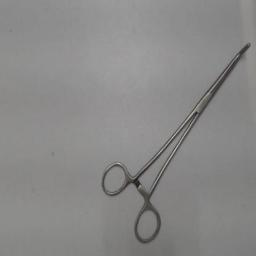Lahey Forceps: (100, 37, 254, 247)
